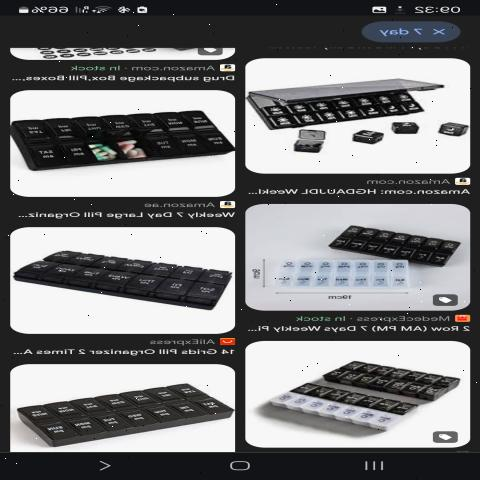PillBox: (5, 107, 240, 182), (12, 371, 229, 446), (17, 243, 233, 309), (250, 65, 440, 134), (243, 384, 426, 430), (314, 221, 469, 264), (313, 354, 469, 396)
